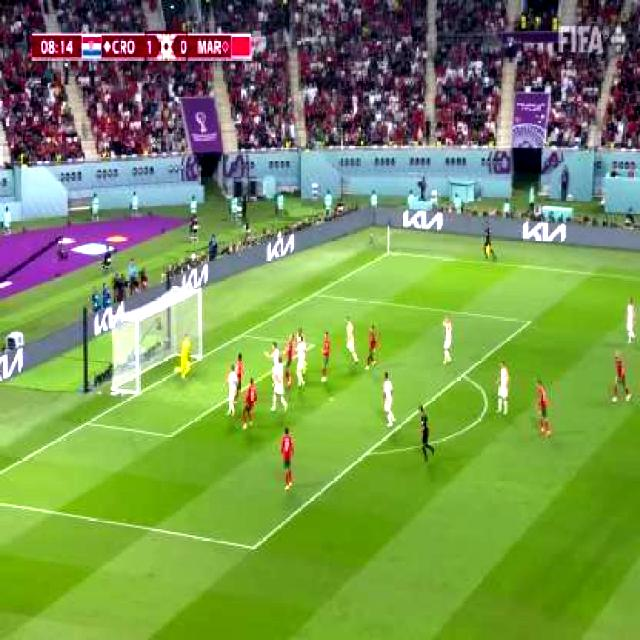bigarea_bottom_inner: (249, 540, 260, 557)
bigarea_top_inner: (524, 315, 534, 331)
bigarea_top_outter: (311, 289, 318, 300)
bottom_arc_area_intersection: (363, 446, 372, 463)
corner: (386, 249, 397, 257)
smallarea_bottom_inner: (166, 429, 177, 443)
smallarea_bottom_outter: (81, 418, 92, 429)
smallarea_top_inner: (309, 340, 317, 351)
smallarea_top_outter: (240, 331, 248, 340)
top_arc_area_intersection: (458, 369, 468, 385)
